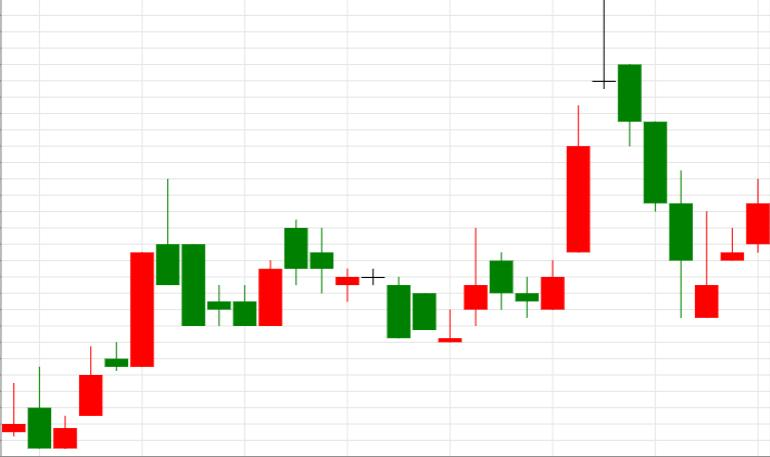evening_star_fall: (438, 1, 641, 343)
three_black_crows_fall: (436, 1, 693, 343)
